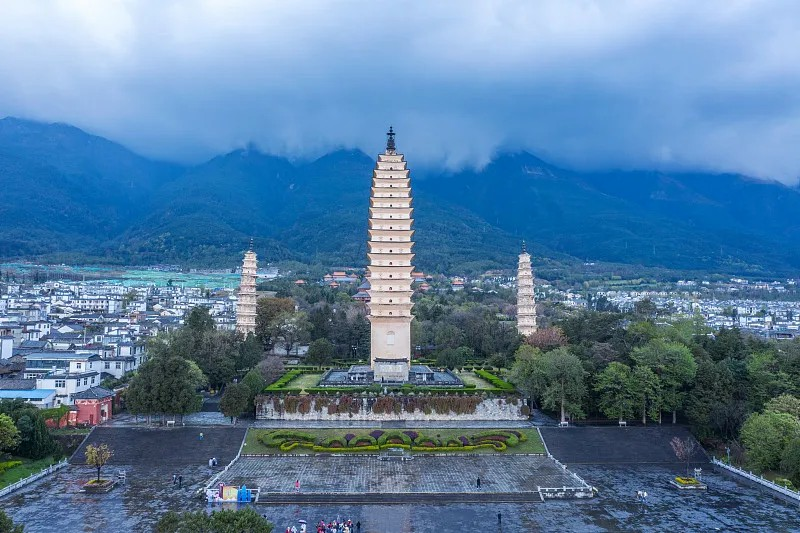ThreePagoda: (365, 127, 414, 365)
